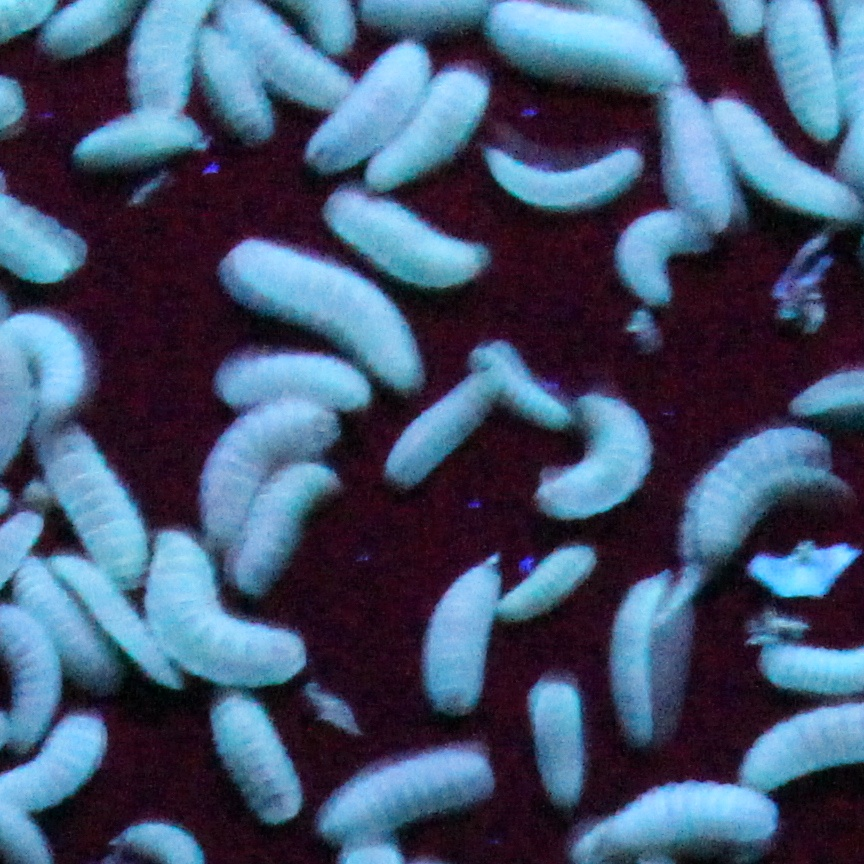larve: (224, 235, 424, 392), (156, 533, 303, 688), (671, 429, 844, 558), (490, 1, 699, 99), (49, 556, 187, 692), (203, 397, 340, 533), (326, 188, 503, 292), (37, 431, 149, 588), (319, 749, 499, 845), (374, 363, 503, 495), (301, 40, 428, 170), (353, 70, 485, 188), (221, 458, 337, 592), (542, 390, 651, 526), (583, 788, 783, 858), (651, 88, 749, 229), (10, 551, 106, 683), (215, 683, 294, 829), (433, 549, 492, 722), (481, 149, 646, 204), (617, 576, 671, 735), (615, 208, 703, 301), (10, 308, 83, 420), (199, 26, 274, 135), (528, 681, 590, 810), (501, 545, 599, 624), (76, 113, 217, 160), (478, 349, 569, 420)
